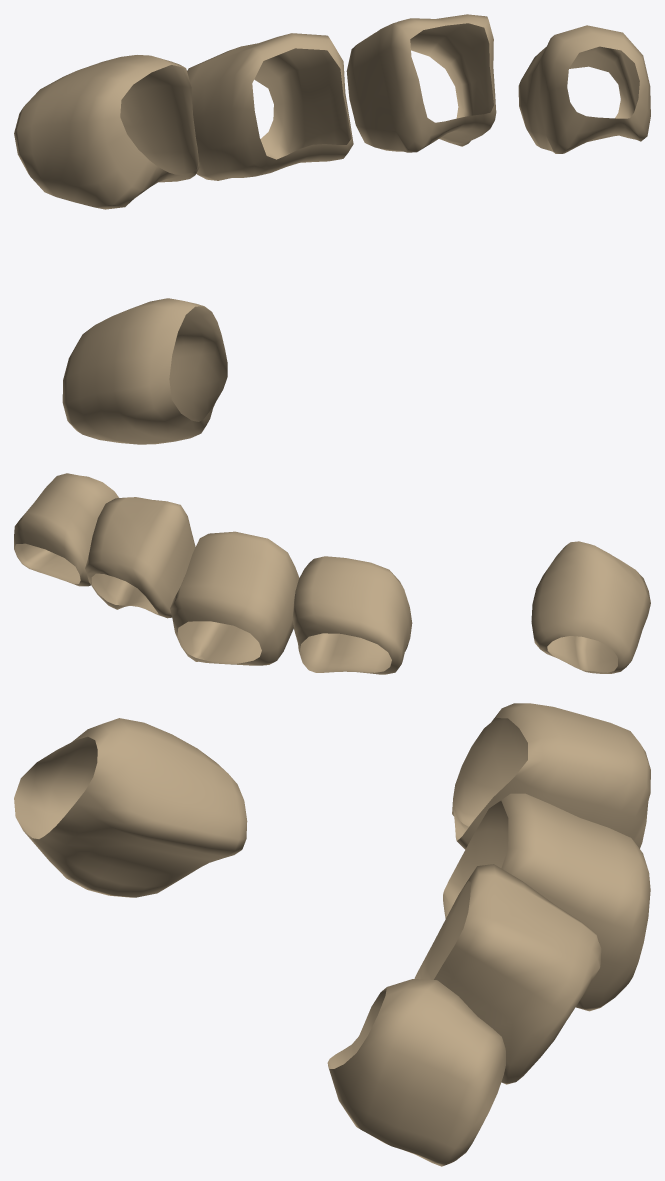
The picture shows the model from 3 angles, top to bottom: view 1: azimuth 30°, elevation 25°; view 2: azimuth 150°, elevation 25°; view 3: azimuth 270°, elevation 25°; orthographic projection. The views are drawn at different scales.
Visible parts, largest first — view 1: 右侧掌指关节囊; view 2: 右侧掌指关节囊; view 3: 右侧掌指关节囊.
Part boxes in pixels (x1,y1,x2,y2): 右侧掌指关节囊: (14,14,650,444); 右侧掌指关节囊: (14,473,650,674); 右侧掌指关节囊: (14,703,650,1166).
Size of the model in its own units: 0.1362 by 0.0422 by 0.0905.
